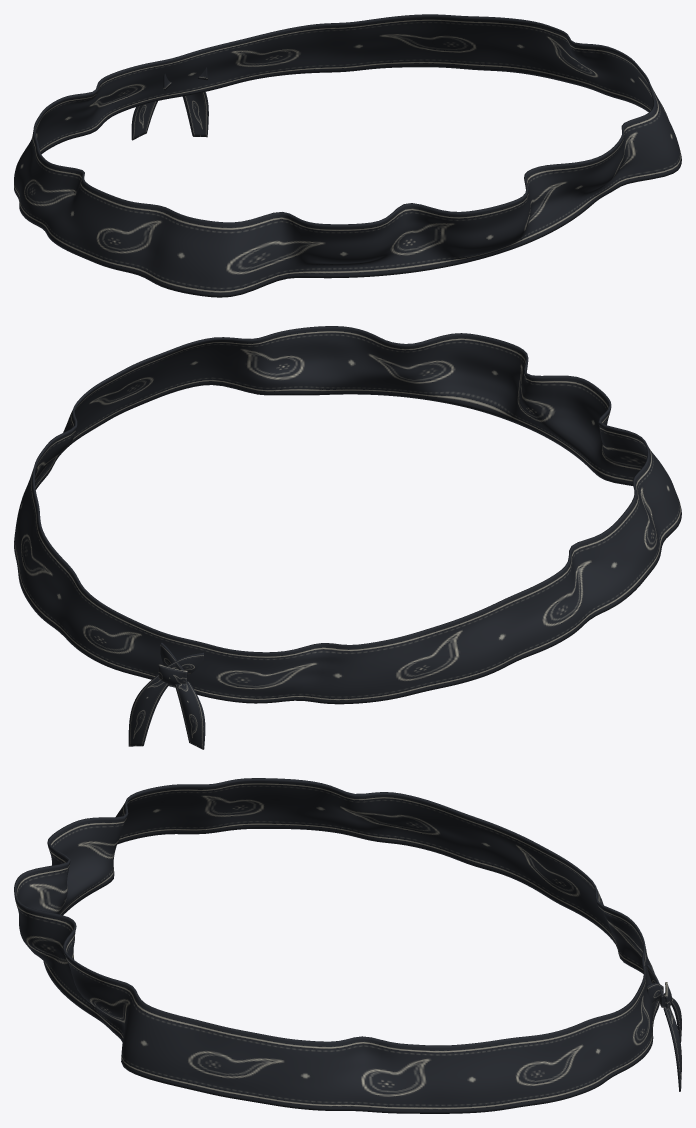
Rendered from Masculine-locs-bandana.glb.
3 views of the same model, one above another, from view 1: azimuth 30°, elevation 25°; view 2: azimuth 150°, elevation 25°; view 3: azimuth 270°, elevation 25° (orthographic). The views are drawn at different scales.
Visible parts, largest first — view 1: Bandana / folded forehead wrap, Bandana / falling tie 1, Bandana / falling tie -1; view 2: Bandana / folded forehead wrap, Bandana / falling tie 1, Bandana / falling tie -1; view 3: Bandana / folded forehead wrap, Bandana / falling tie 1.
Part boxes in pixels (x1,y1,x2,y2): Bandana / folded forehead wrap: [14, 14, 681, 297]; Bandana / falling tie 1: [182, 92, 208, 137]; Bandana / falling tie -1: [131, 101, 157, 140]; Bandana / folded forehead wrap: [14, 326, 681, 704]; Bandana / falling tie 1: [128, 674, 168, 746]; Bandana / falling tie -1: [174, 681, 205, 749]; Bandana / folded forehead wrap: [14, 778, 659, 1113]; Bandana / falling tie 1: [663, 994, 681, 1091].
Size of the model in its own units: 0.8893 by 0.2666 by 0.8823.
1 material, 1 textured.
